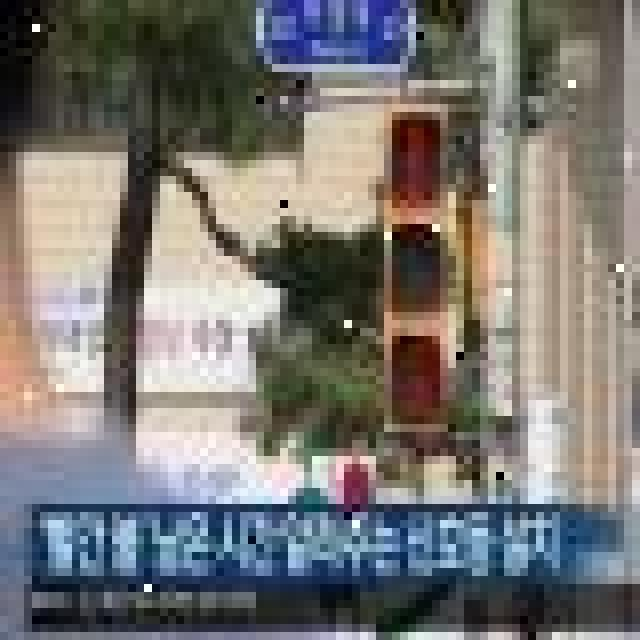redlight: (378, 100, 457, 333)
